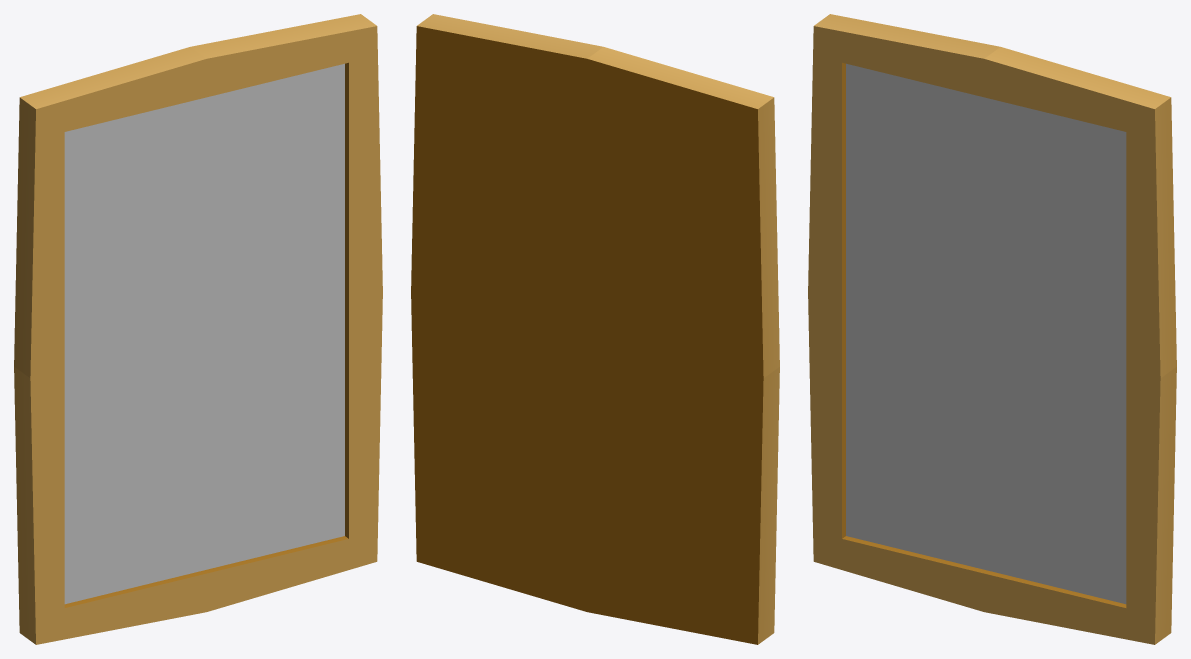
File: wallmirror.glb
The picture shows the model from 3 angles, left to right: view 1: azimuth 30°, elevation 25°; view 2: azimuth 150°, elevation 25°; view 3: azimuth 330°, elevation 25°; orthographic projection.
Parts seen in each view (by area): view 1: WallMirror; view 2: WallMirror; view 3: WallMirror.
Part boxes in pixels (left/top/right/bottom): WallMirror: left=14, top=14, right=382, bottom=644; WallMirror: left=411, top=14, right=779, bottom=644; WallMirror: left=808, top=14, right=1176, bottom=644.
Bounding box in the file's own units: 0.6198 × 0.9297 × 0.05.
1 material, 1 textured.
